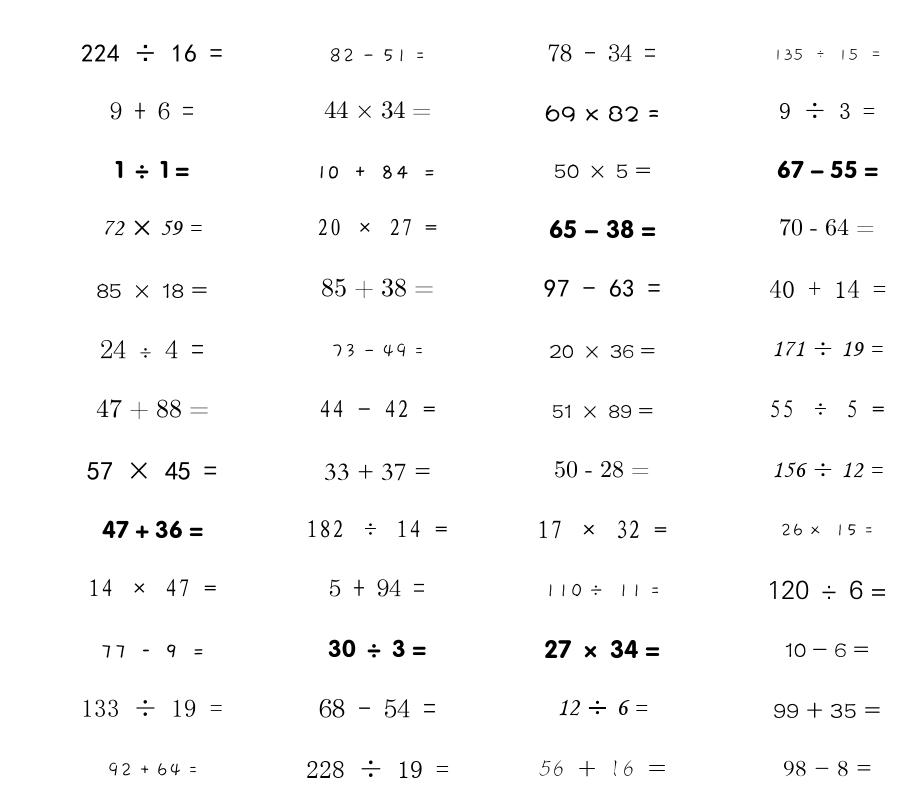MQ: (306, 760, 449, 778), (81, 44, 223, 62), (306, 520, 448, 538), (81, 699, 223, 717), (87, 461, 217, 480), (537, 520, 667, 539), (767, 580, 887, 600), (321, 278, 434, 299), (96, 399, 209, 420), (319, 698, 436, 718), (88, 579, 217, 597), (544, 639, 660, 659), (317, 218, 437, 236), (539, 760, 666, 777), (549, 219, 656, 239), (544, 279, 661, 297), (769, 280, 886, 298), (319, 400, 436, 418), (769, 400, 885, 418), (100, 339, 204, 359), (545, 105, 660, 122), (548, 44, 656, 62), (324, 101, 431, 119), (324, 463, 431, 481), (777, 160, 878, 179), (102, 520, 203, 539), (328, 639, 426, 658), (773, 702, 881, 719), (772, 341, 883, 357), (772, 462, 883, 478), (544, 583, 660, 598), (779, 218, 875, 236), (554, 460, 650, 478), (329, 579, 425, 597), (96, 283, 208, 298), (318, 165, 436, 179), (779, 102, 875, 119), (102, 220, 202, 236), (557, 699, 648, 716), (783, 760, 872, 777), (110, 102, 194, 120), (549, 344, 655, 358), (100, 644, 205, 658), (329, 48, 425, 63), (773, 48, 882, 61), (552, 404, 653, 418), (115, 160, 189, 179), (331, 343, 424, 358), (107, 762, 198, 777), (554, 164, 651, 178), (780, 523, 874, 537), (785, 643, 869, 657)
